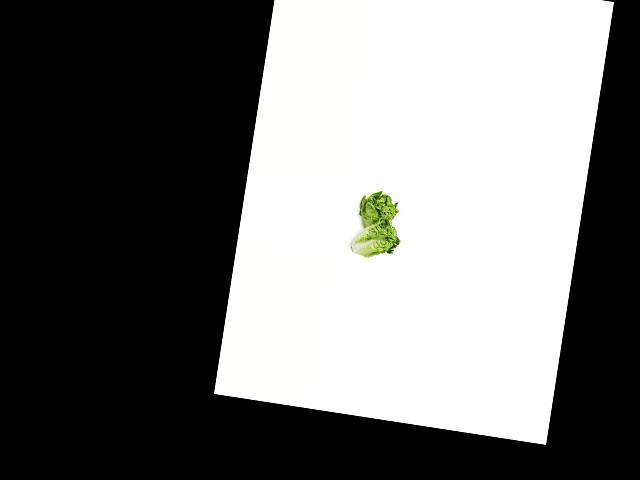lettuce: (350, 187, 401, 236)
